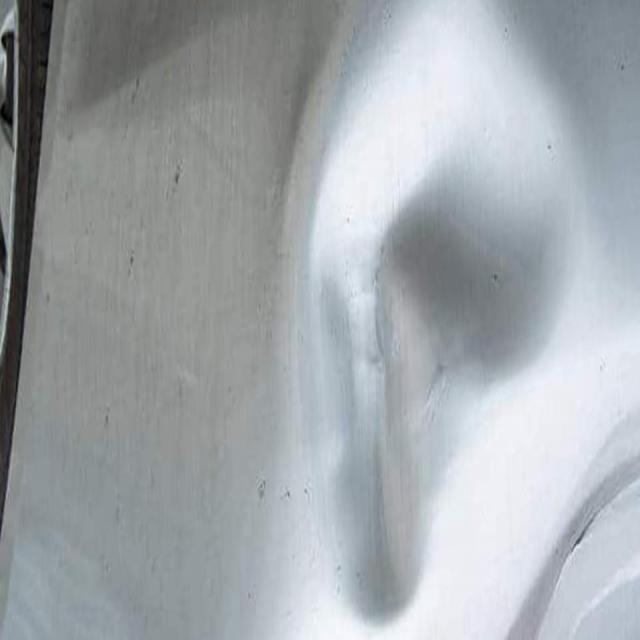dent: (248, 19, 596, 640)
